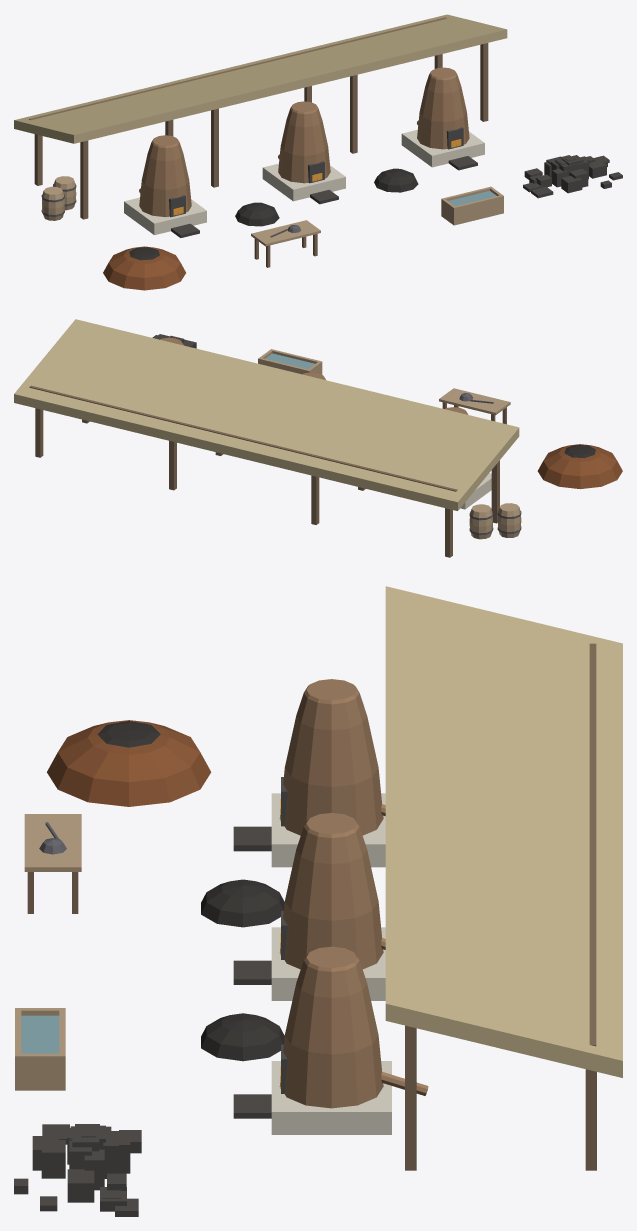
The model's file is bloomery.glb.
The picture shows the model from 3 angles, top to bottom: view 1: azimuth 30°, elevation 25°; view 2: azimuth 150°, elevation 25°; view 3: azimuth 270°, elevation 25°; orthographic projection. The views are drawn at different scales.
Visible parts, largest first — view 1: Bloomery; view 2: Bloomery; view 3: Bloomery.
Part boxes in pixels (x1,y1,x2,y2): Bloomery: (14,14,622,290); Bloomery: (14,319,622,557); Bloomery: (14,586,622,1216).
Bounding box in the file's own units: 17.91 × 3.15 × 9.62.
